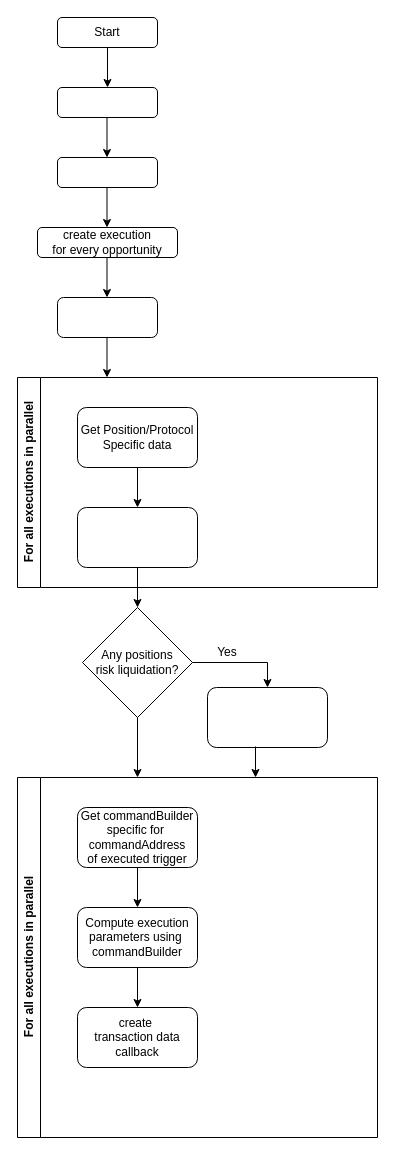
Image size: 395x1155. Some labels were removed from this diagram. Each missing label, with the centre of its shape:
cancel not risky executions: the point at 267,717
fetch eligible opportunities: the point at 107,102
filter unsupported trigger types: the point at 107,172
Get Collateral MarketPrice data: the point at 137,537
mark in flight executions HANDLED: the point at 107,317
